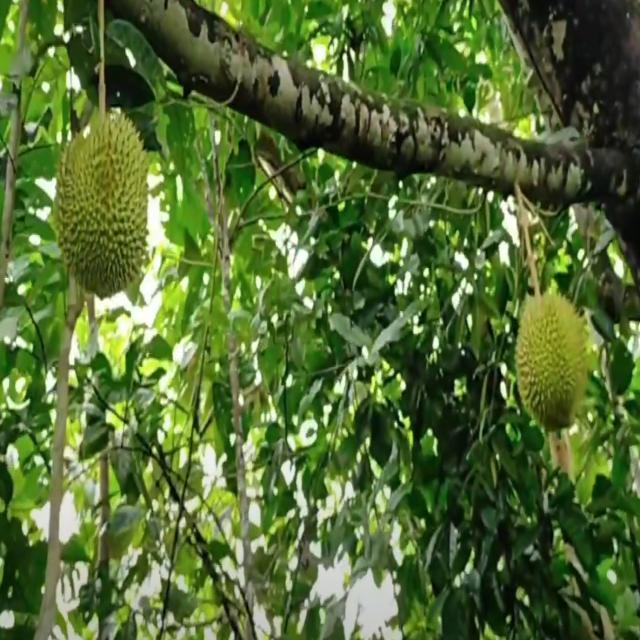immature: (56, 114, 150, 294), (515, 283, 592, 438)
